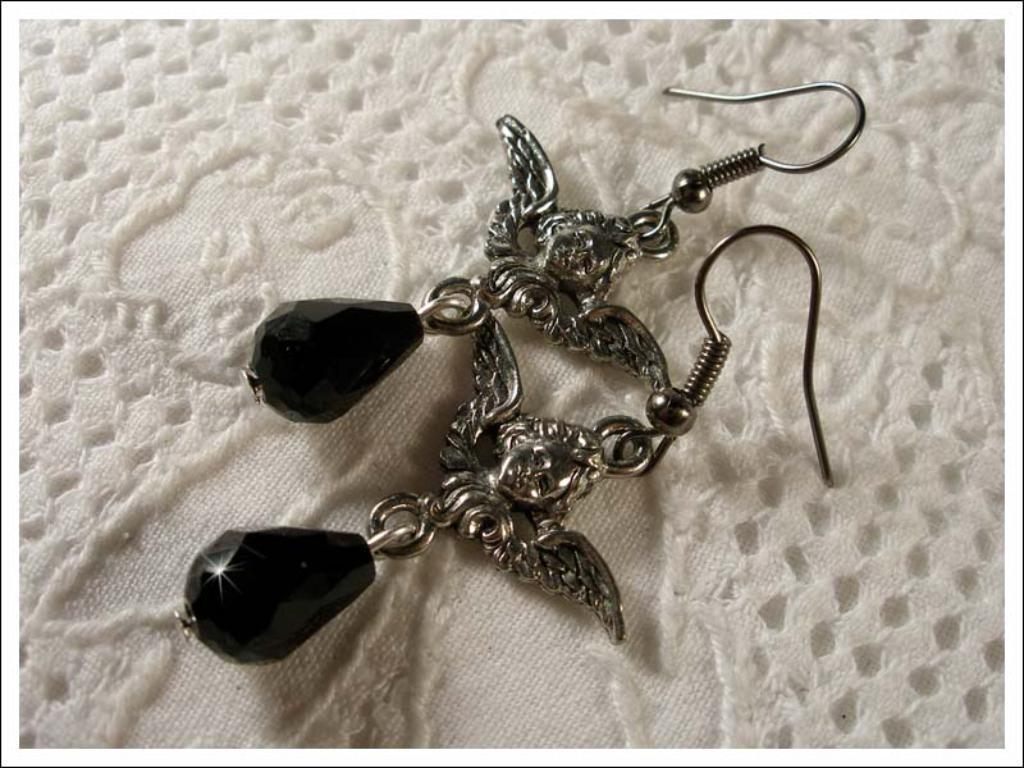earrings: (234, 84, 864, 430)
